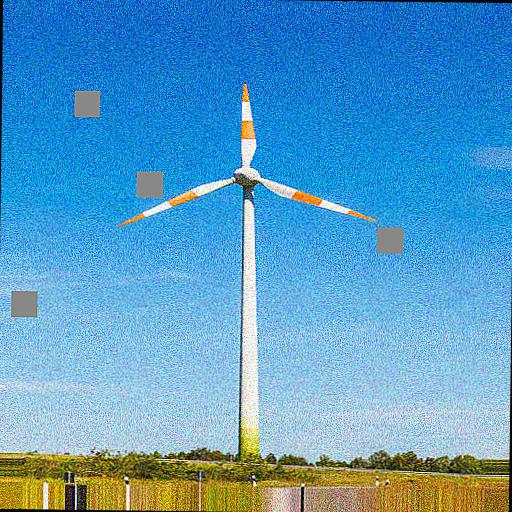wind turbine: (115, 80, 379, 457)
